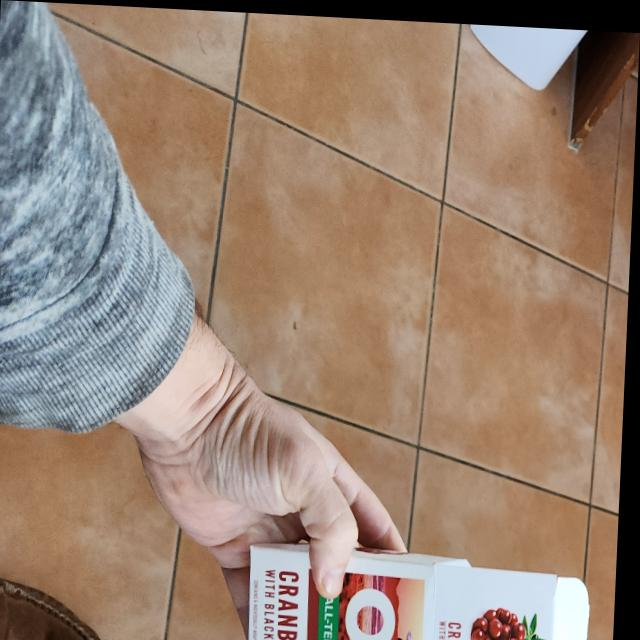muesli bars: (249, 540, 597, 640)
